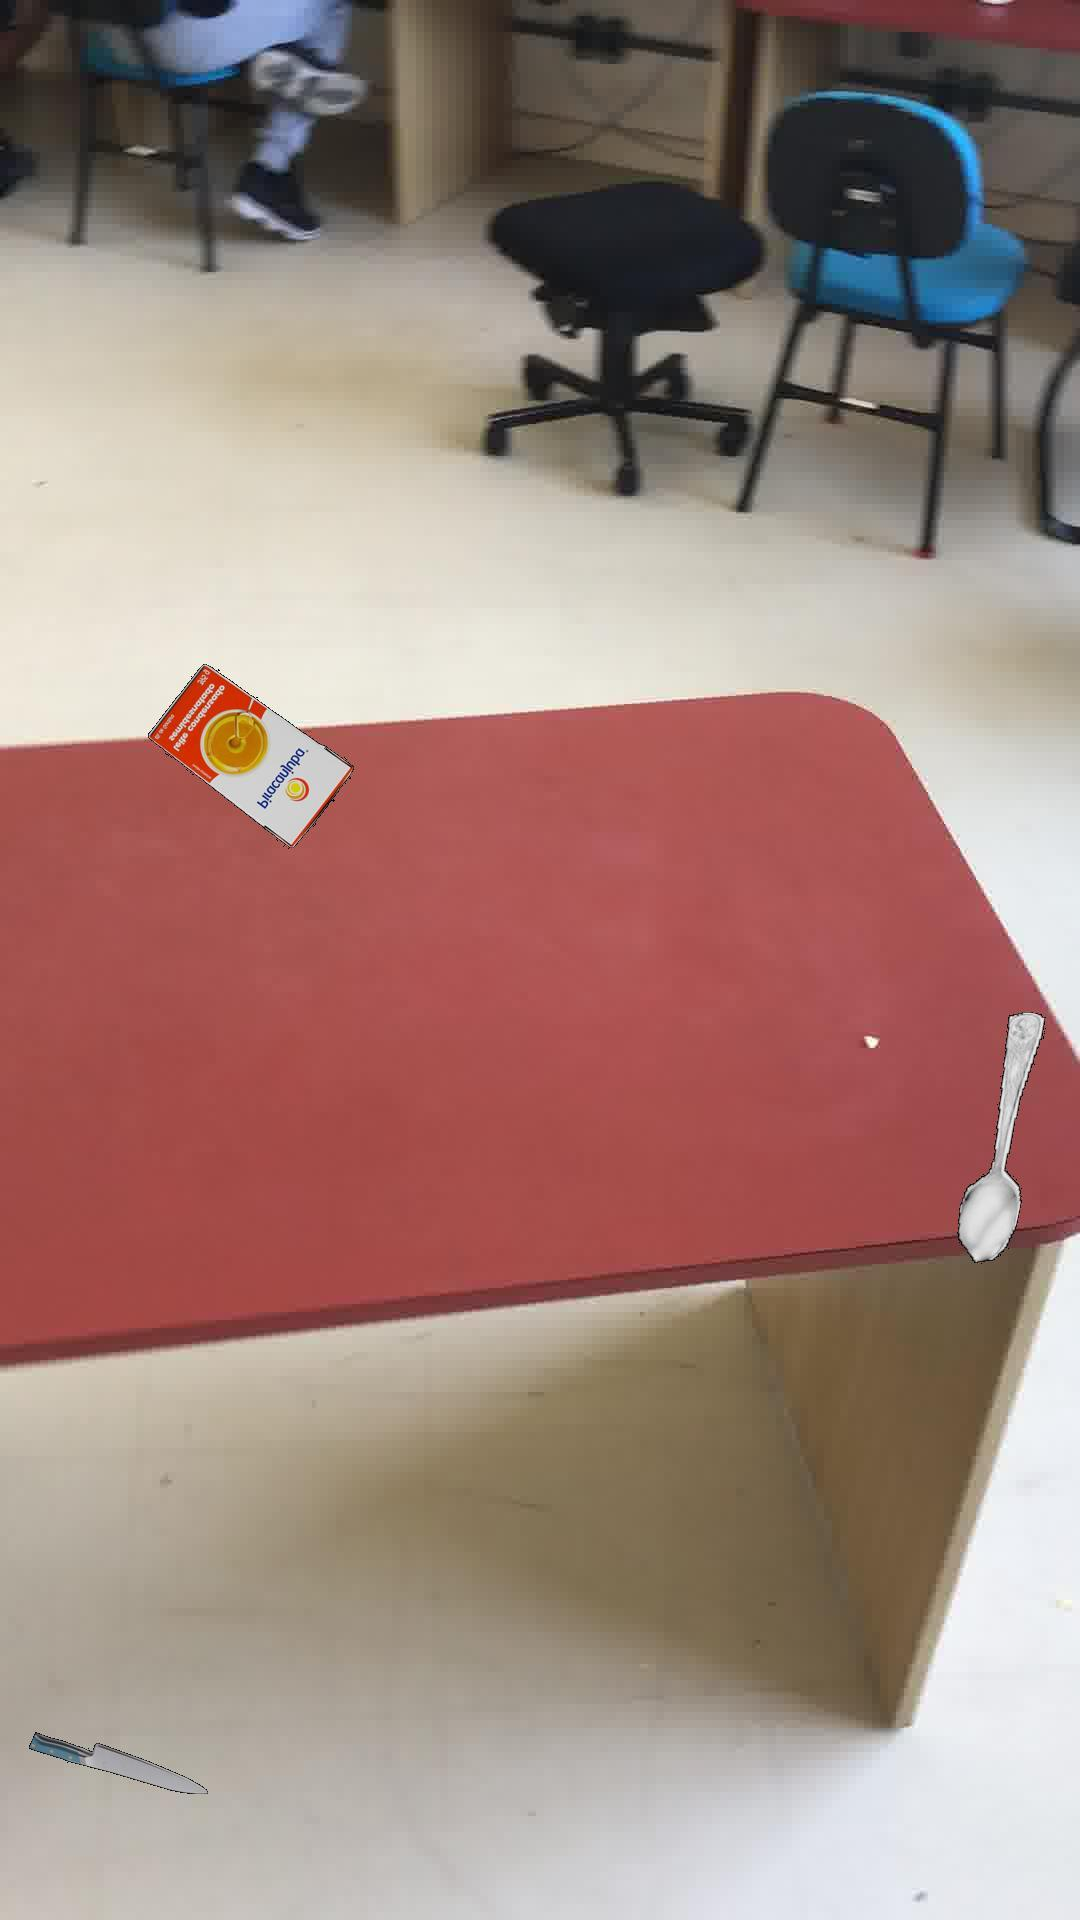knife: (28, 1730, 206, 1792)
spoon: (956, 1010, 1044, 1262)
